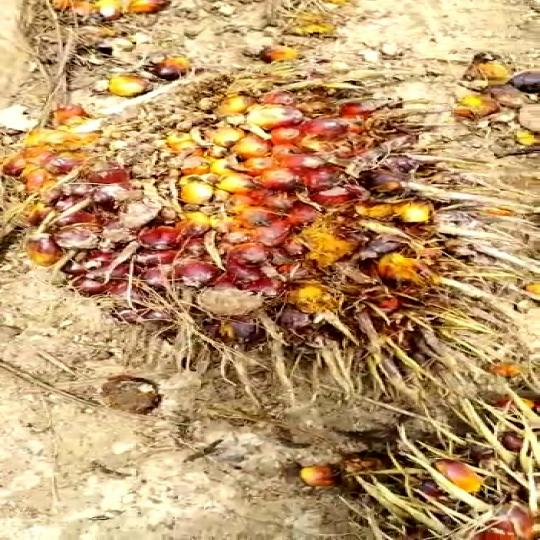masak: (10, 87, 508, 402)
